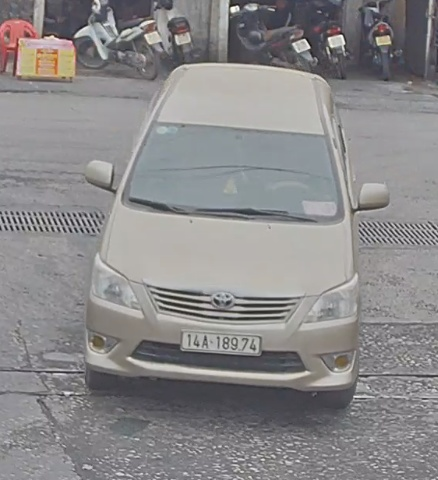vehicle plate: (180, 325, 263, 353)
